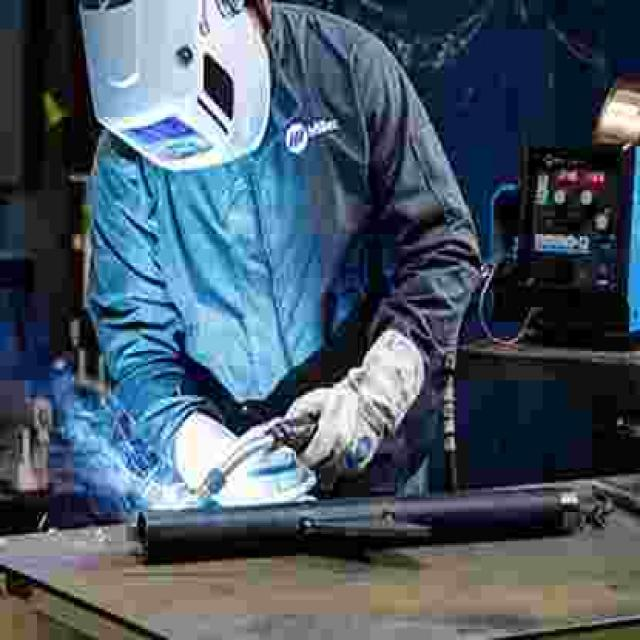welding: (154, 478, 194, 507)
